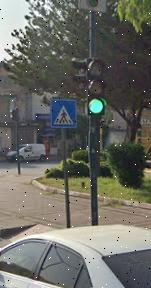greenlight: (85, 57, 107, 118)
